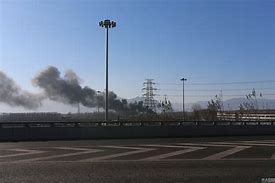smoke: (33, 66, 152, 111)
